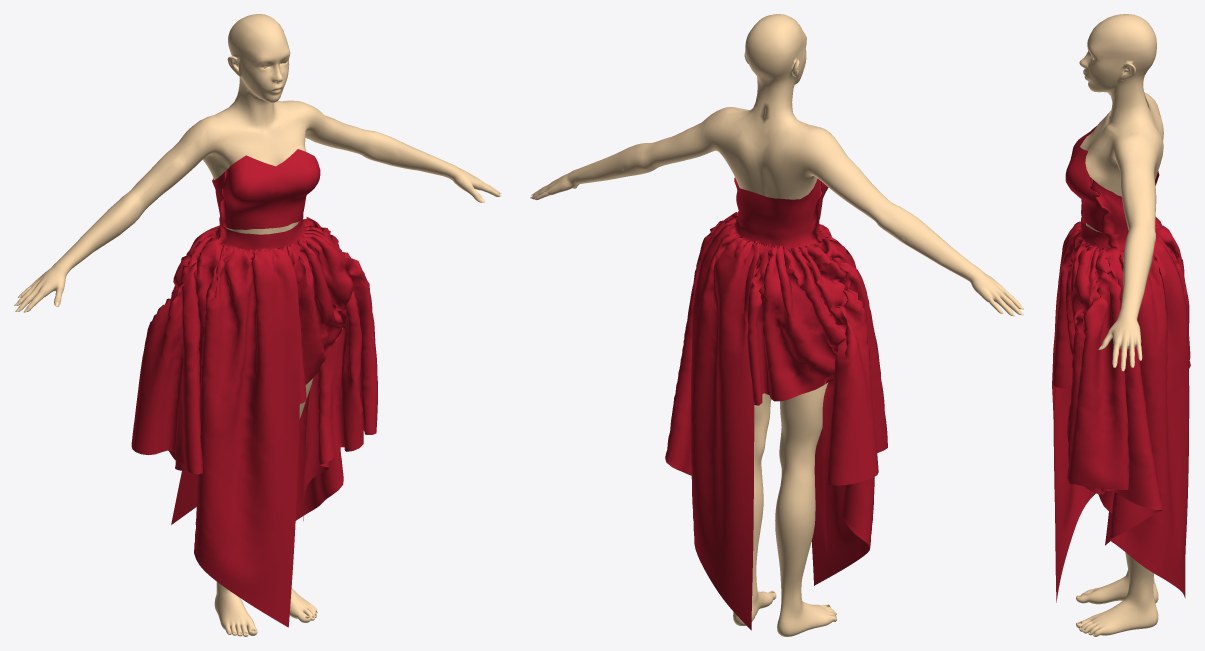
Rendered from dress2.glb.
3 renders of one model, left to right at view 1: azimuth 30°, elevation 25°; view 2: azimuth 150°, elevation 25°; view 3: azimuth 270°, elevation 25°, orthographic.
Parts seen in each view (by area): view 1: Project 1, Body; view 2: Project 1, Body; view 3: Project 1, Body.
Part boxes in pixels (left/top/right/bottom): Project 1: left=131, top=149, right=377, bottom=627; Body: left=16, top=14, right=500, bottom=636; Project 1: left=665, top=177, right=887, bottom=630; Body: left=531, top=14, right=1021, bottom=636; Project 1: left=1052, top=126, right=1190, bottom=602; Body: left=1076, top=14, right=1163, bottom=636.
Bounding box in the file's own units: 1.58 × 1.85 × 0.3878.
